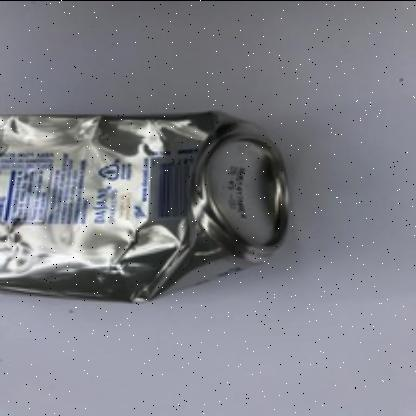Can: (0, 112, 288, 302)
